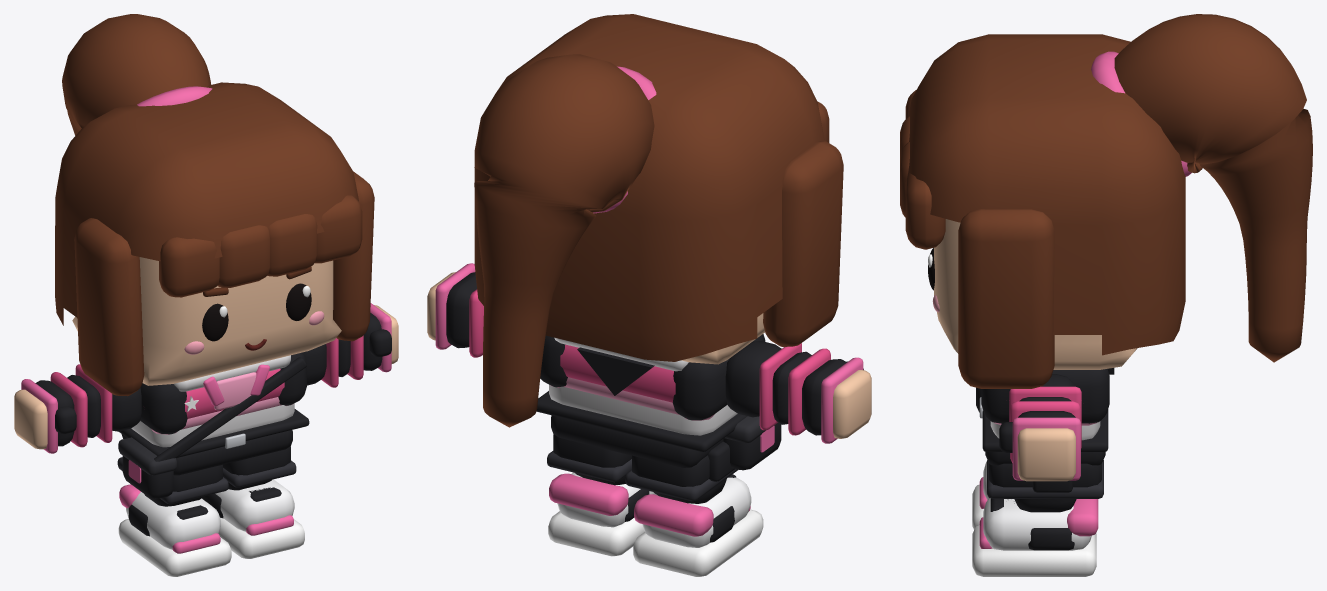
Rendered from riko_chibi_v02.glb.
3 renders of one model, left to right at view 1: azimuth 30°, elevation 25°; view 2: azimuth 150°, elevation 25°; view 3: azimuth 270°, elevation 25°, orthographic. The views are drawn at different scales.
Visible parts, largest first — view 1: Hair_Cap, Head, Hair_Locks, Hair_Ponytail, Hair_Bangs, Shoe_R, Shorts, Shoe_L, Arm_R, Jacket, Hand_R, Arm_L (+9 smaller); view 2: Hair_Cap, Hair_Ponytail, Hair_Locks, Shorts, Shoe_R, Jacket, Arm_R, Shoe_L, Hand_R, Torso, Hand_L, Belt (+5 smaller); view 3: Hair_Cap, Hair_Ponytail, Hair_Locks, Shoe_L, Hand_L, Head, Shorts, Hair_Bangs, Jacket, Arm_L, Belt, Hair_Scrunchie (+2 smaller).
Boxes of the visible parts, x1=… form: Hair_Cap: x1=55, y1=82, x2=358, y2=325; Head: x1=72, y1=257, x2=341, y2=385; Hair_Locks: x1=74, y1=171, x2=374, y2=396; Hair_Ponytail: x1=62, y1=14, x2=211, y2=135; Hair_Bangs: x1=159, y1=195, x2=362, y2=297; Shoe_R: x1=118, y1=484, x2=231, y2=576; Shorts: x1=117, y1=430, x2=296, y2=504; Shoe_L: x1=202, y1=479, x2=304, y2=558; Arm_R: x1=50, y1=364, x2=141, y2=447; Jacket: x1=140, y1=352, x2=306, y2=434; Hand_R: x1=14, y1=379, x2=76, y2=453; Arm_L: x1=302, y1=335, x2=363, y2=387; Hair_Cap: x1=474, y1=14, x2=824, y2=361; Hair_Ponytail: x1=474, y1=54, x2=654, y2=427; Hair_Locks: x1=763, y1=141, x2=843, y2=346; Shorts: x1=547, y1=415, x2=738, y2=501; Shoe_R: x1=633, y1=474, x2=763, y2=576; Jacket: x1=540, y1=334, x2=765, y2=420; Arm_R: x1=725, y1=341, x2=830, y2=435; Shoe_L: x1=548, y1=472, x2=655, y2=556; Hand_R: x1=802, y1=357, x2=871, y2=443; Torso: x1=549, y1=384, x2=737, y2=435; Hand_L: x1=427, y1=263, x2=476, y2=349; Belt: x1=536, y1=391, x2=747, y2=451; Hair_Cap: x1=905, y1=34, x2=1185, y2=355; Hair_Ponytail: x1=1114, y1=14, x2=1312, y2=362; Hair_Locks: x1=958, y1=209, x2=1054, y2=388; Shoe_L: x1=972, y1=498, x2=1098, y2=576; Hand_L: x1=999, y1=411, x2=1080, y2=481; Head: x1=934, y1=219, x2=1137, y2=369; Shorts: x1=985, y1=452, x2=1105, y2=498; Hair_Bangs: x1=900, y1=90, x2=945, y2=249; Jacket: x1=981, y1=368, x2=1114, y2=423; Arm_L: x1=1009, y1=374, x2=1081, y2=462; Belt: x1=979, y1=397, x2=1108, y2=451; Hair_Scrunchie: x1=1091, y1=51, x2=1191, y2=176.
Size of the model in its own units: 0.5873 by 0.7176 by 0.5148.
